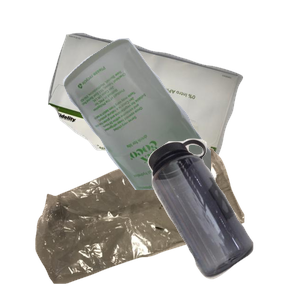glass: (60, 36, 300, 216)
paper: (45, 30, 281, 195)
plastic: (145, 136, 300, 300)
trash: (33, 145, 270, 300)
